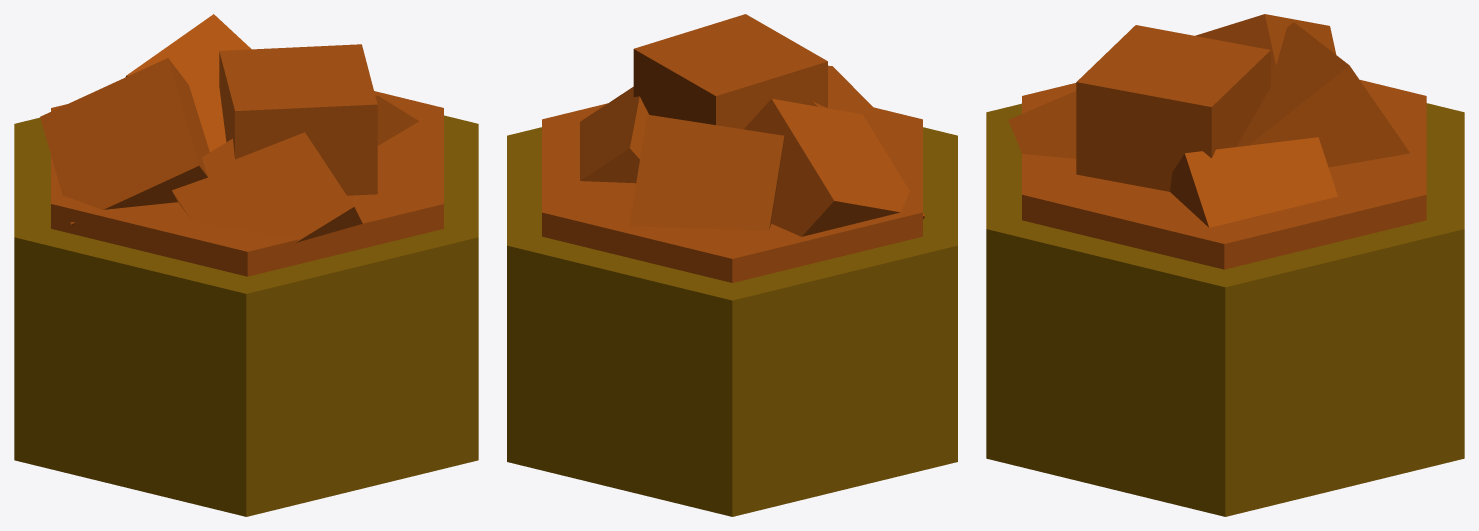
Rendered from applebasketfree.fbx.
3 views of the same model, side by side, from view 1: azimuth 30°, elevation 25°; view 2: azimuth 150°, elevation 25°; view 3: azimuth 270°, elevation 25° (orthographic). The views are drawn at different scales.
Parts seen in each view (by area): view 1: applebasket; view 2: applebasket; view 3: applebasket.
Part boxes in pixels (x1,y1,x2,y2): applebasket: (14, 14, 478, 516); applebasket: (507, 14, 957, 516); applebasket: (986, 14, 1464, 516).
Size of the model in its own units: 0.1371 by 0.0977 by 0.1188.
